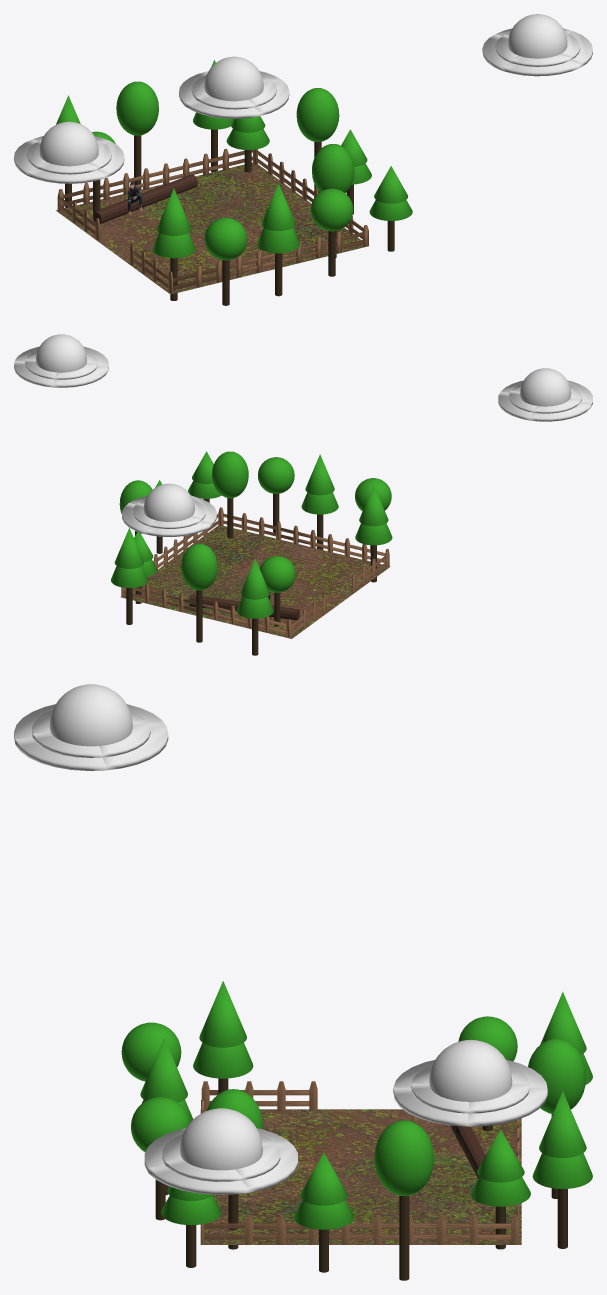
The model's file is SceneFinal.glb.
The picture shows the model from 3 angles, top to bottom: view 1: azimuth 30°, elevation 25°; view 2: azimuth 150°, elevation 25°; view 3: azimuth 270°, elevation 25°; orthographic projection. The views are drawn at different scales.
Parts seen in each view (by area): view 1: Plane, Cube.040, Sphere.001, Sphere.002, Sphere.003, Tree2, Tree1.005, Tree1.006, Tree2.002, Tree2.001, Tree2.004, Tree2.005 (+6 smaller); view 2: Plane, Cube.040, Sphere.001, Sphere.003, Sphere.002, Tree2, Tree2.005, Tree1.001, Tree1.003, Tree1.005, Tree1.006, Tree2.004 (+6 smaller); view 3: Plane, Sphere.002, Sphere.003, Sphere.001, Cube.040, Tree2.002, Tree1.003, Tree1.006, Tree1, Tree1.004, Tree2, Tree2.004 (+7 smaller).
Part boxes in pixels (bbox=[...]): Plane: bbox=[56, 162, 368, 294]; Cube.040: bbox=[57, 148, 368, 293]; Sphere.001: bbox=[482, 14, 592, 76]; Sphere.002: bbox=[179, 56, 289, 118]; Sphere.003: bbox=[14, 121, 124, 183]; Tree2: bbox=[116, 81, 158, 189]; Tree1.005: bbox=[257, 183, 299, 296]; Tree1.006: bbox=[152, 188, 195, 300]; Tree2.002: bbox=[296, 88, 339, 192]; Tree2.001: bbox=[204, 217, 247, 305]; Tree2.004: bbox=[310, 188, 353, 276]; Tree2.005: bbox=[312, 144, 354, 257]; Plane: bbox=[120, 525, 390, 638]; Cube.040: bbox=[121, 507, 389, 637]; Sphere.001: bbox=[14, 334, 108, 387]; Sphere.003: bbox=[498, 368, 592, 421]; Sphere.002: bbox=[122, 483, 216, 536]; Tree2: bbox=[181, 543, 217, 642]; Tree2.005: bbox=[212, 451, 248, 538]; Tree1.001: bbox=[236, 558, 273, 655]; Tree1.003: bbox=[111, 528, 147, 624]; Tree1.005: bbox=[301, 454, 338, 549]; Tree1.006: bbox=[355, 485, 392, 582]; Tree2.004: bbox=[258, 457, 294, 532]; Plane: bbox=[200, 1109, 521, 1244]; Sphere.002: bbox=[393, 1039, 547, 1126]; Sphere.003: bbox=[14, 684, 168, 770]; Sphere.001: bbox=[144, 1108, 297, 1194]; Cube.040: bbox=[201, 1081, 519, 1244]; Tree2.002: bbox=[374, 1120, 433, 1280]; Tree1.003: bbox=[532, 1091, 592, 1248]; Tree1.006: bbox=[193, 981, 253, 1093]; Tree1: bbox=[294, 1153, 353, 1272]; Tree1.004: bbox=[470, 1129, 530, 1249]; Tree2: bbox=[528, 1038, 586, 1198]; Tree2.004: bbox=[131, 1097, 189, 1220].
Bounding box in the file's own units: 61.35 × 23.97 × 36.08.
Materials: 13 (3 with a texture image).
